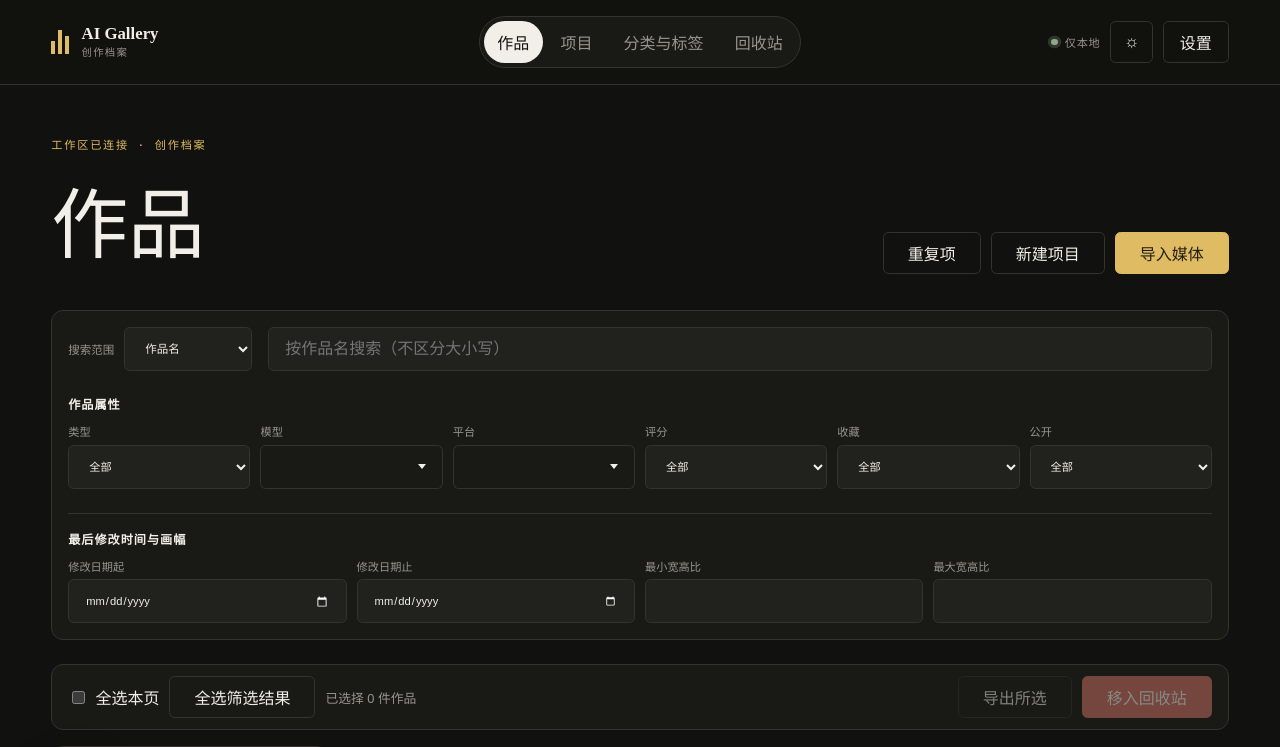
M2 作品库页面 › 项目页解释项目用途并显示稳定编号
What coordinates should you click on to do the following:
click the button "项目"
I would click on:
 (576, 42)
Its box is [547,21,606,63].
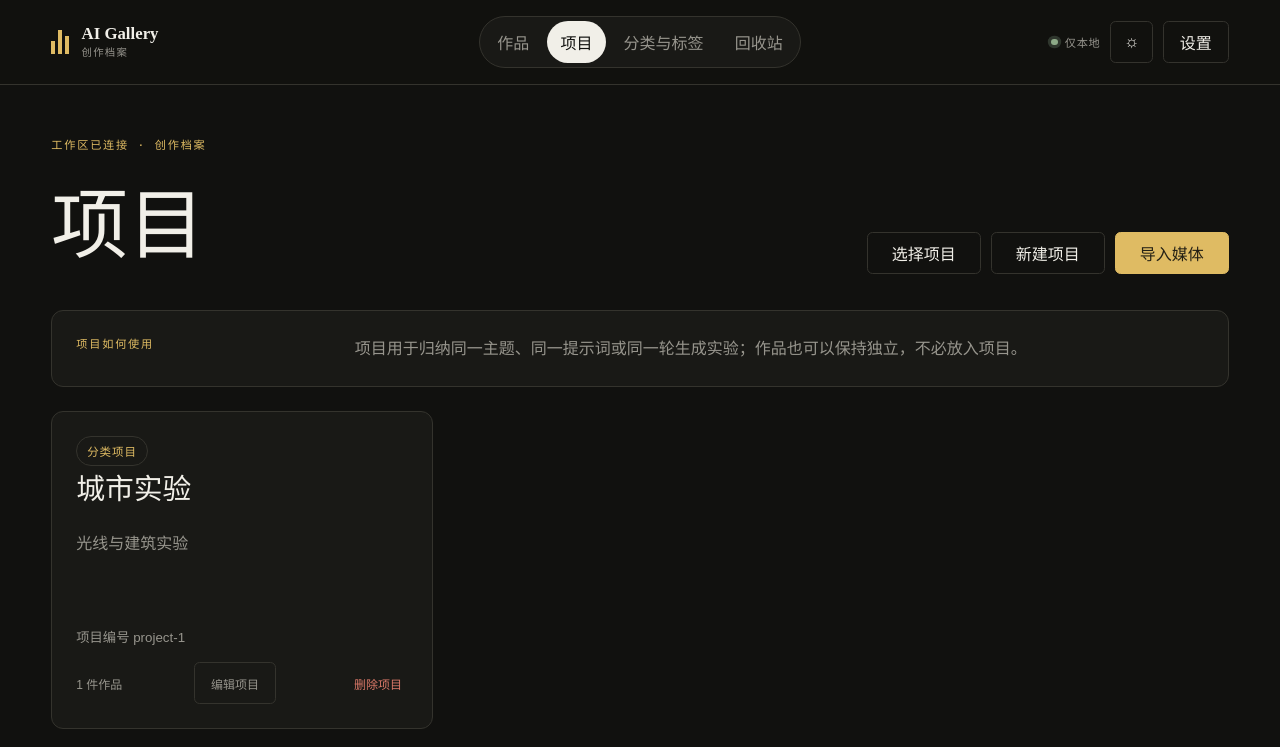
Expected: the text "项目用于归纳同一主题、同一提示词或同一轮生成实验；作品也可以保持独立，不必放入项目。" is shown, [355,335,1123,362]
